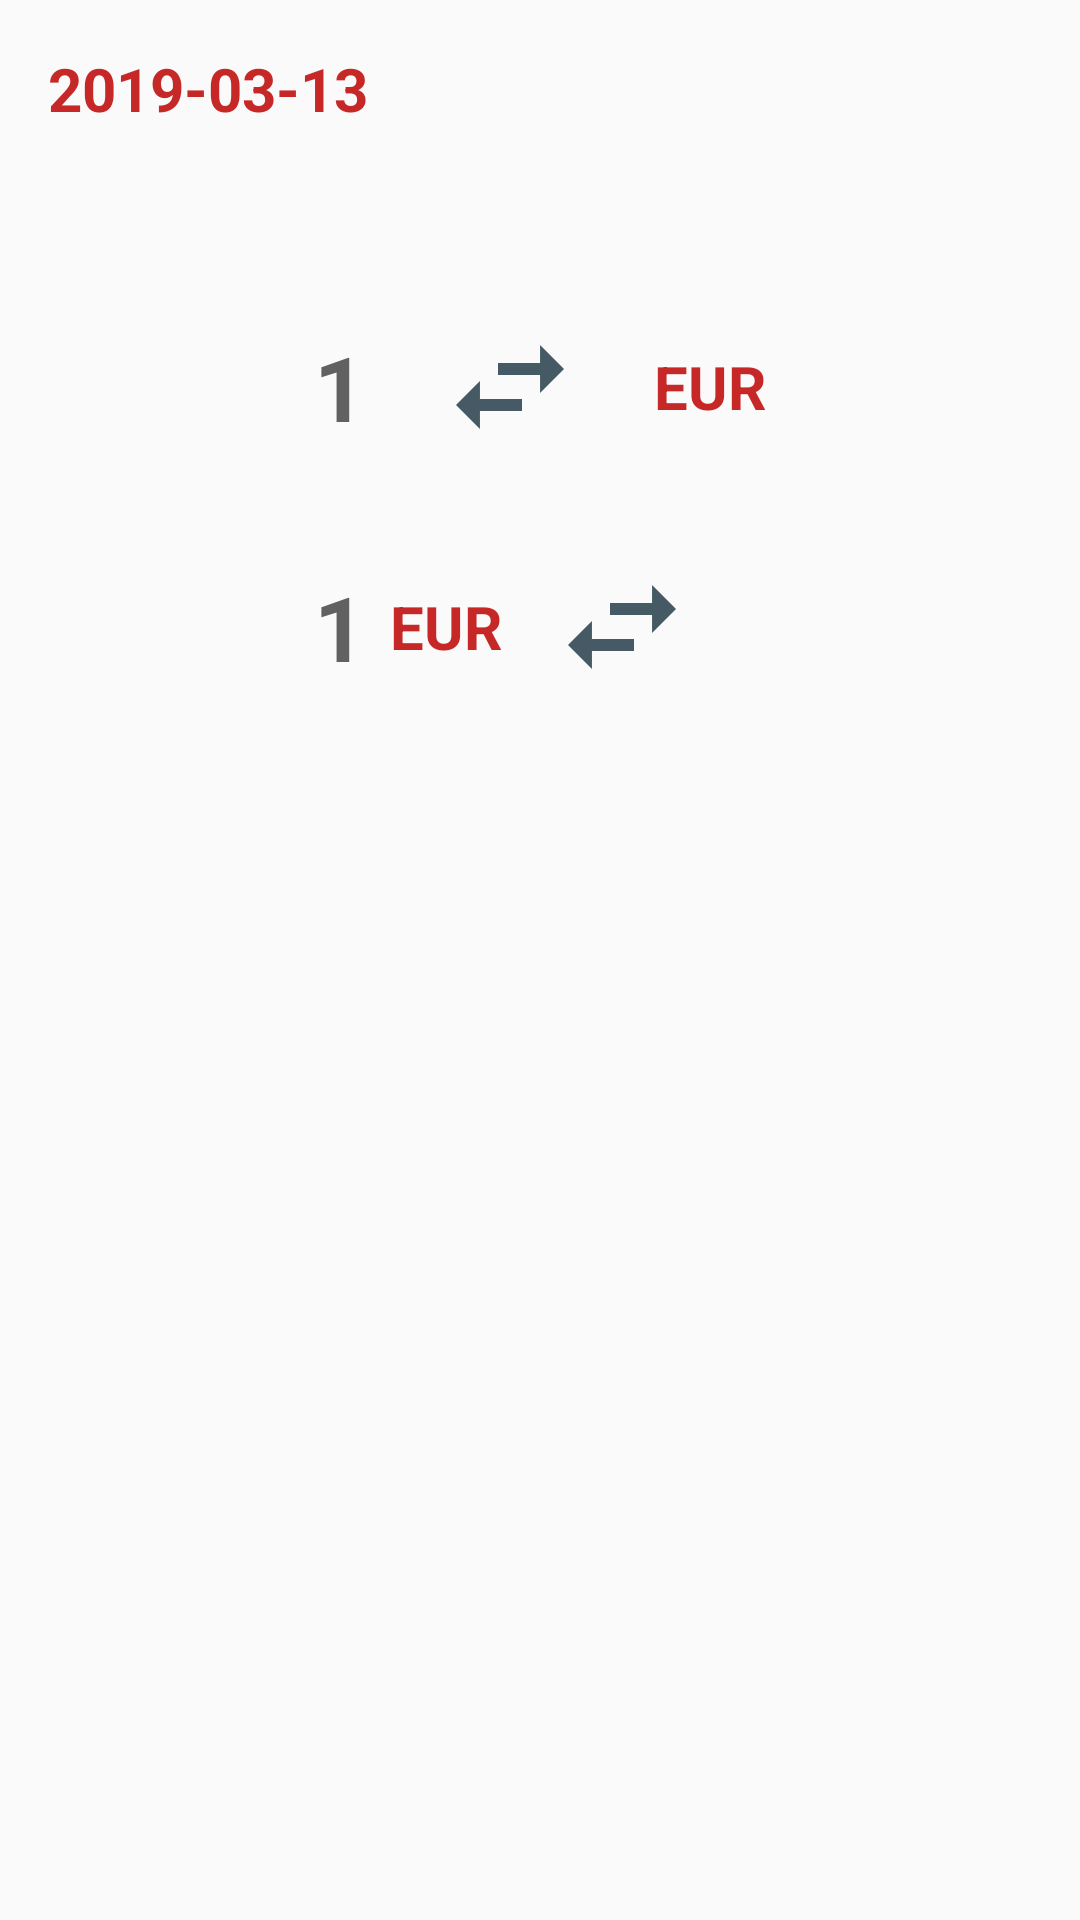

Icon bounding boxes for this 1080w x 1920h phone screenshot, format {"left": x1, "top": y1, "right": x2, "bottom": y2}:
exchange: {"left": 456, "top": 345, "right": 564, "bottom": 429}, {"left": 568, "top": 585, "right": 676, "bottom": 669}
